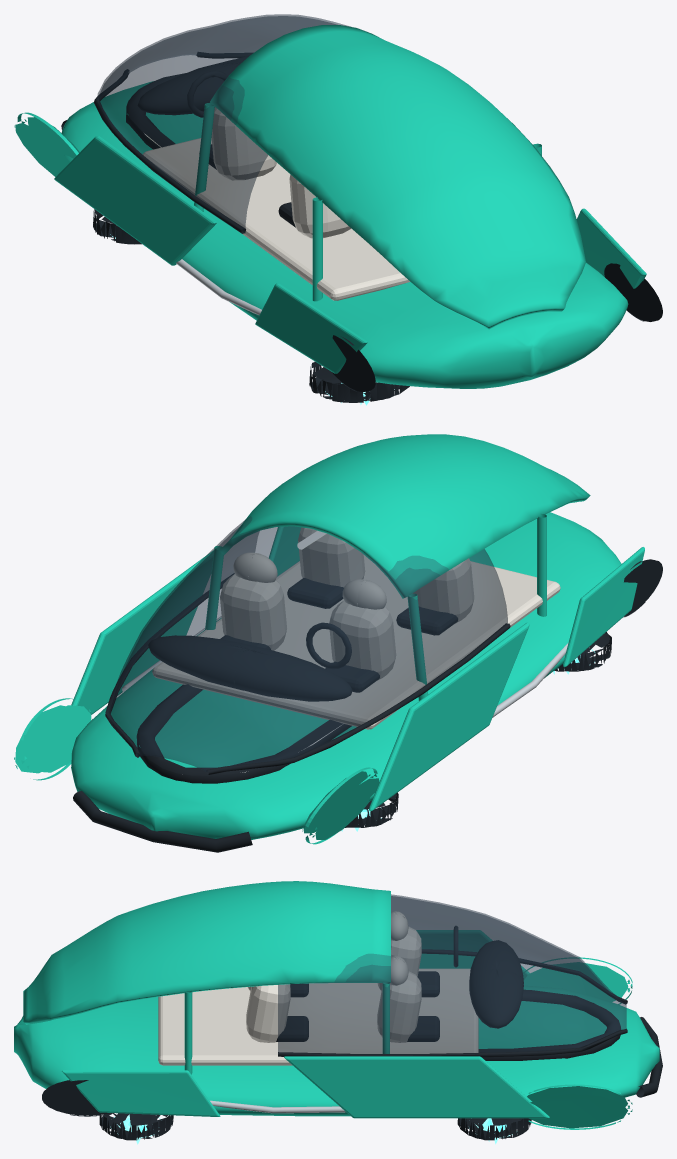
File: car_3.glb
3 renders of one model, top to bottom at view 1: azimuth 30°, elevation 25°; view 2: azimuth 150°, elevation 25°; view 3: azimuth 270°, elevation 25°, orthographic. The views are drawn at different scales.
Visible parts, largest first — view 1: body; view 2: body; view 3: body.
Part boxes in pixels (x1=…): body: x1=14, y1=14, x2=662, y2=405; body: x1=14, y1=434, x2=662, y2=852; body: x1=14, y1=881, x2=662, y2=1144.
Bounding box in the file's own units: 2.03 × 1.52 × 4.27.
